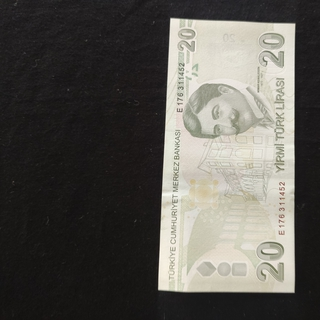20TLBack: (158, 17, 295, 295)
